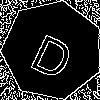D: (27, 25, 81, 81)
